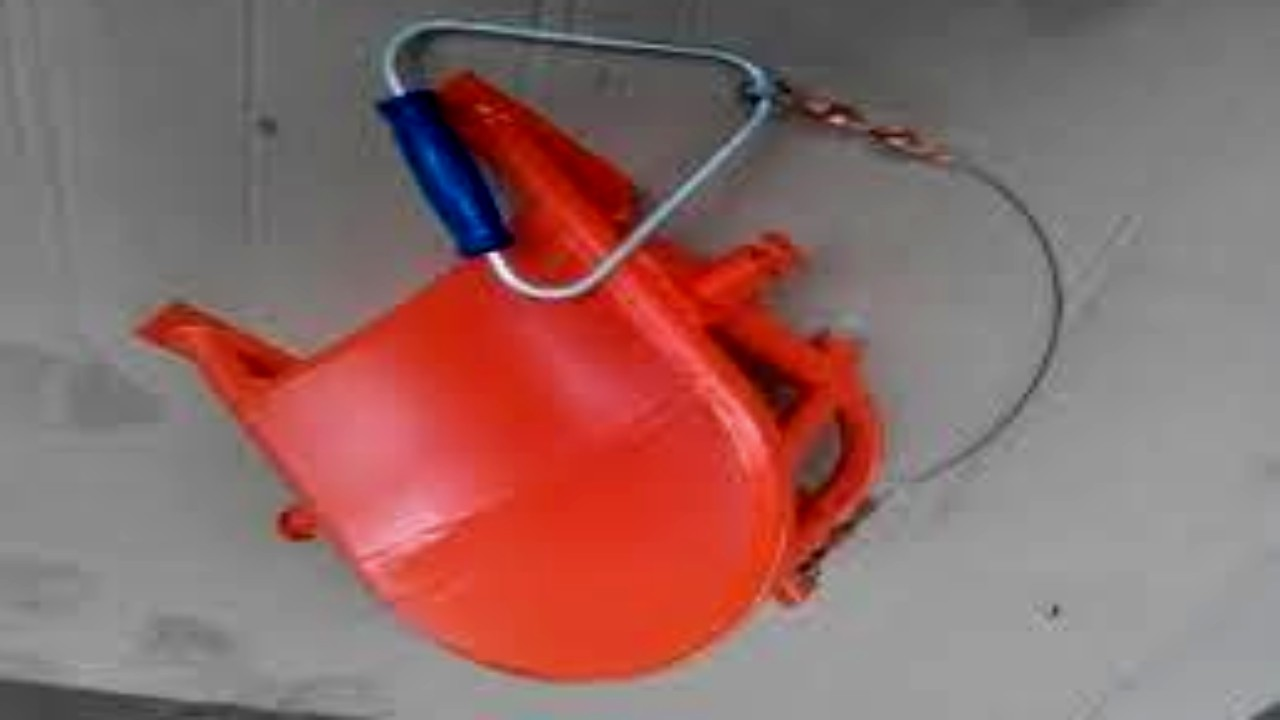chock: (124, 70, 891, 688)
